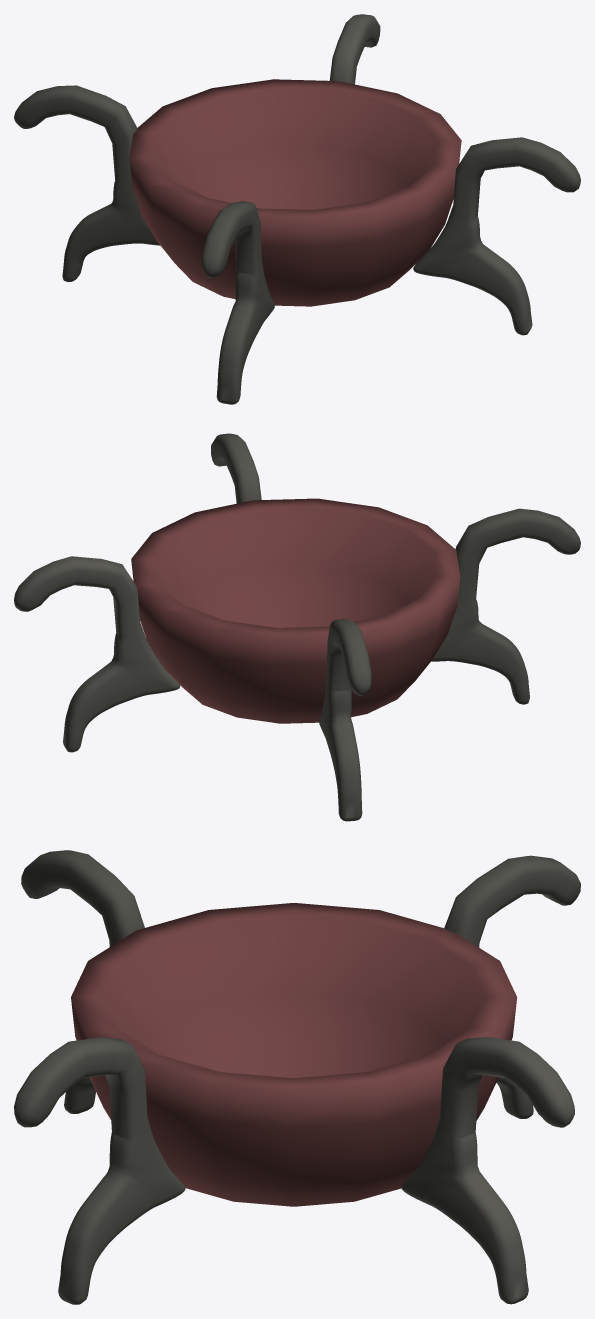
File: Vasilha_Lab_LoPo.fbx
The picture shows the model from 3 angles, top to bottom: view 1: azimuth 30°, elevation 25°; view 2: azimuth 150°, elevation 25°; view 3: azimuth 270°, elevation 25°; orthographic projection. The views are drawn at different scales.
Visible parts, largest first — view 1: vasilhaDeMistura__Lab_LoPo; view 2: vasilhaDeMistura__Lab_LoPo; view 3: vasilhaDeMistura__Lab_LoPo.
Part boxes in pixels (<box>): vasilhaDeMistura__Lab_LoPo: <box>14,14,580,404</box>; vasilhaDeMistura__Lab_LoPo: <box>14,433,580,821</box>; vasilhaDeMistura__Lab_LoPo: <box>14,850,580,1304</box>.
Size of the model in its own units: 149 by 73.43 by 147.
